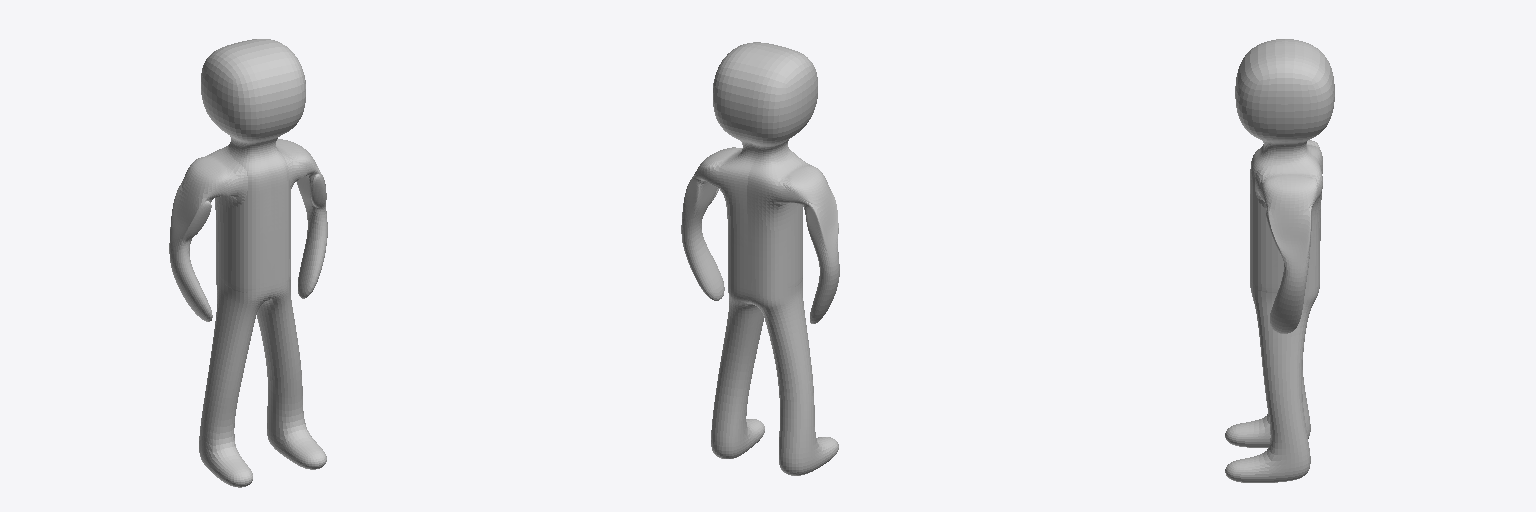
Rendered from player.obj.
3 renders of one model, left to right at view 1: azimuth 30°, elevation 25°; view 2: azimuth 150°, elevation 25°; view 3: azimuth 270°, elevation 25°, orthographic.
Visible parts, largest first — view 1: Cube; view 2: Cube; view 3: Cube.
Boxes of the visible parts, box(x1,y1,x2,y2) form: Cube: box(169, 39, 327, 487); Cube: box(681, 42, 839, 475); Cube: box(1225, 39, 1334, 482).
Size of the model in its own units: 5 by 12.93 by 3.1.